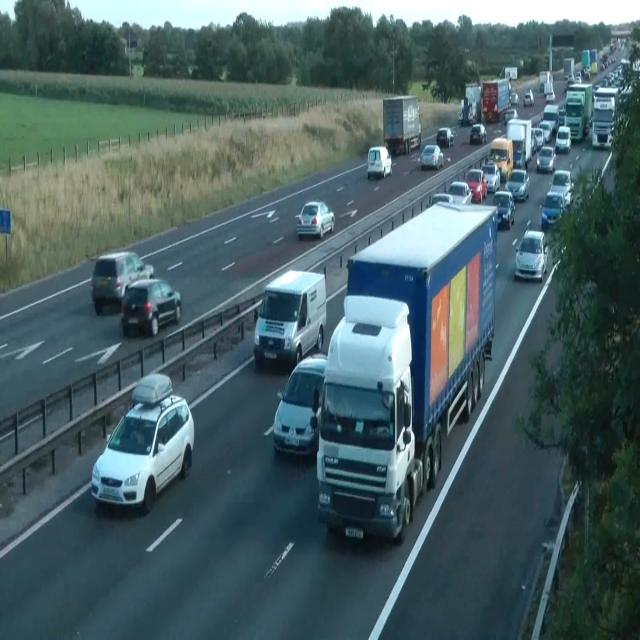bus: (272, 353, 328, 459), (514, 229, 548, 282), (294, 200, 334, 240), (540, 191, 566, 230), (492, 190, 516, 230), (549, 169, 573, 206), (366, 146, 392, 180), (504, 168, 530, 201), (463, 168, 487, 203), (420, 144, 444, 170), (482, 162, 501, 193), (448, 180, 472, 204), (592, 121, 612, 149), (536, 146, 556, 172), (555, 125, 571, 154), (469, 123, 487, 145), (436, 127, 454, 148), (428, 192, 452, 206), (532, 127, 544, 153), (538, 121, 552, 143), (503, 108, 518, 124), (524, 88, 534, 107), (545, 90, 555, 102), (564, 72, 574, 83), (510, 92, 518, 105), (574, 73, 582, 83)
car: (314, 293, 420, 544)
jeep: (90, 371, 194, 514), (252, 268, 326, 370), (90, 249, 154, 315), (120, 276, 182, 336)
minibus: (316, 200, 498, 544), (382, 94, 422, 155), (592, 86, 620, 150), (564, 82, 592, 140), (481, 77, 511, 123), (507, 118, 532, 171), (488, 136, 513, 182), (464, 82, 482, 125), (581, 49, 597, 74), (538, 70, 552, 92), (500, 66, 518, 80), (563, 57, 575, 78)
